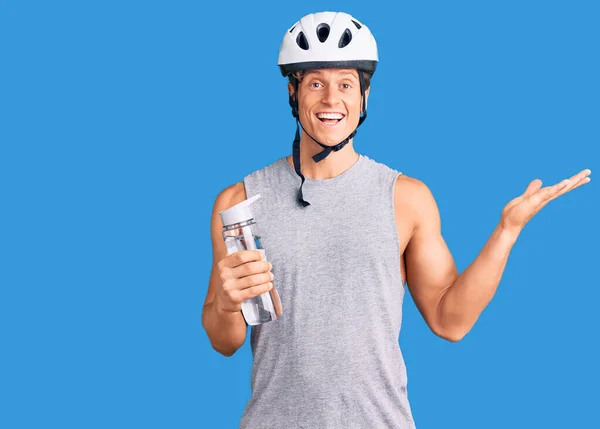helmet: (277, 11, 380, 151)
